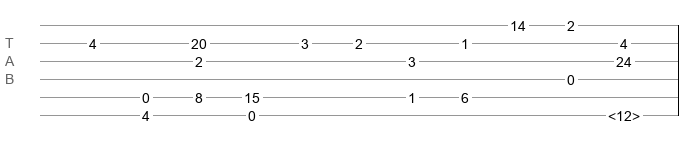0: (142, 90, 150, 100), (248, 108, 256, 118), (567, 72, 575, 82)
1: (408, 90, 416, 100), (461, 36, 469, 46)
14: (510, 18, 526, 28)
15: (244, 90, 260, 100)
2: (195, 54, 203, 64), (355, 36, 363, 46), (567, 18, 575, 28)
20: (191, 36, 207, 46)
24: (616, 54, 632, 64)
3: (301, 36, 309, 46), (408, 54, 416, 64)
4: (89, 36, 97, 46), (142, 108, 150, 118), (620, 36, 628, 46)
6: (461, 90, 469, 100)
8: (195, 90, 203, 100)
harmonic: (608, 108, 640, 118)
